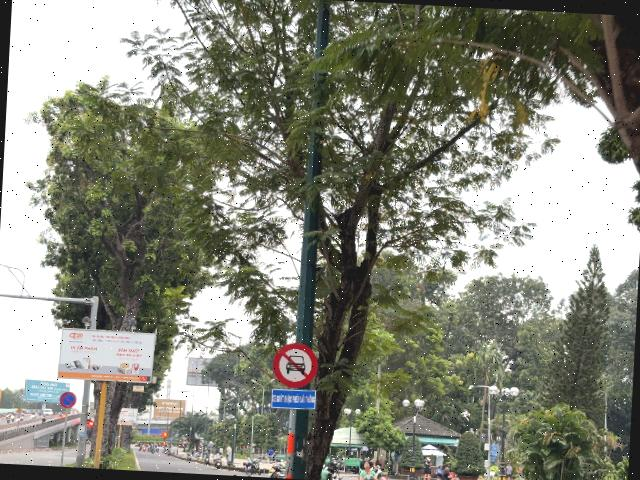cam-o-to: (273, 341, 318, 389)
